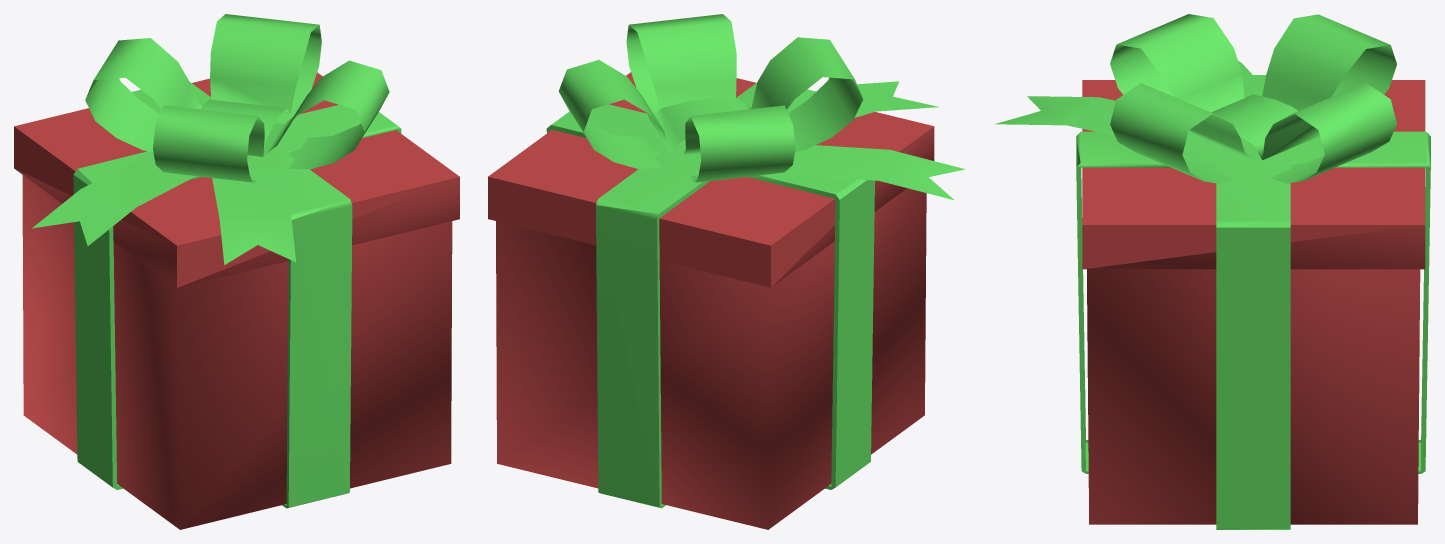
File: present.glb
3 views of the same model, side by side, from view 1: azimuth 30°, elevation 25°; view 2: azimuth 150°, elevation 25°; view 3: azimuth 270°, elevation 25° (orthographic). The views are drawn at different scales.
Parts seen in each view (by area): view 1: present; view 2: present; view 3: present.
Boxes of the visible parts, x1,y1,x2,y2 form: present: (14, 14, 459, 529); present: (488, 14, 964, 529); present: (995, 14, 1430, 529).
Bounding box in the file's own units: 0.3 × 0.2895 × 0.291.
